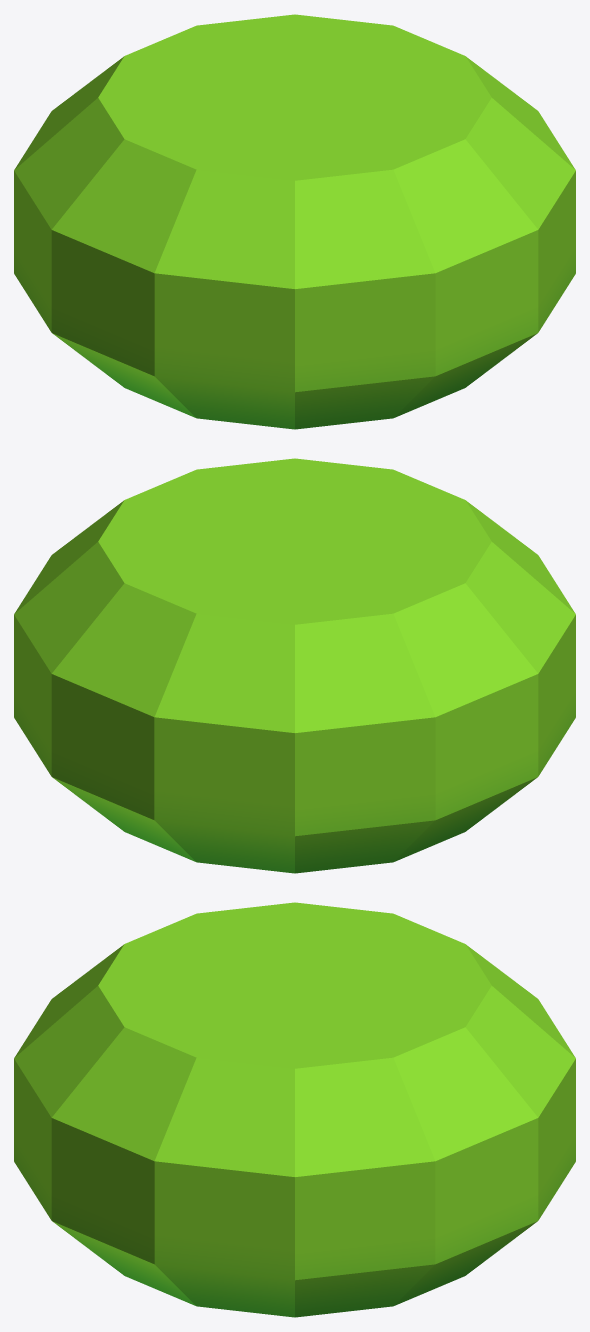
The model's file is Crystal011.fbx.
3 views of the same model, one above another, from view 1: azimuth 30°, elevation 25°; view 2: azimuth 150°, elevation 25°; view 3: azimuth 270°, elevation 25° (orthographic).
Parts seen in each view (by area): view 1: Crystal011; view 2: Crystal011; view 3: Crystal011.
Boxes of the visible parts, x1,y1,x2,y2 form: Crystal011: (14,14,575,429); Crystal011: (14,458,575,873); Crystal011: (14,902,575,1317).
Size of the model in its own units: 84.61 by 41.32 by 84.61.
